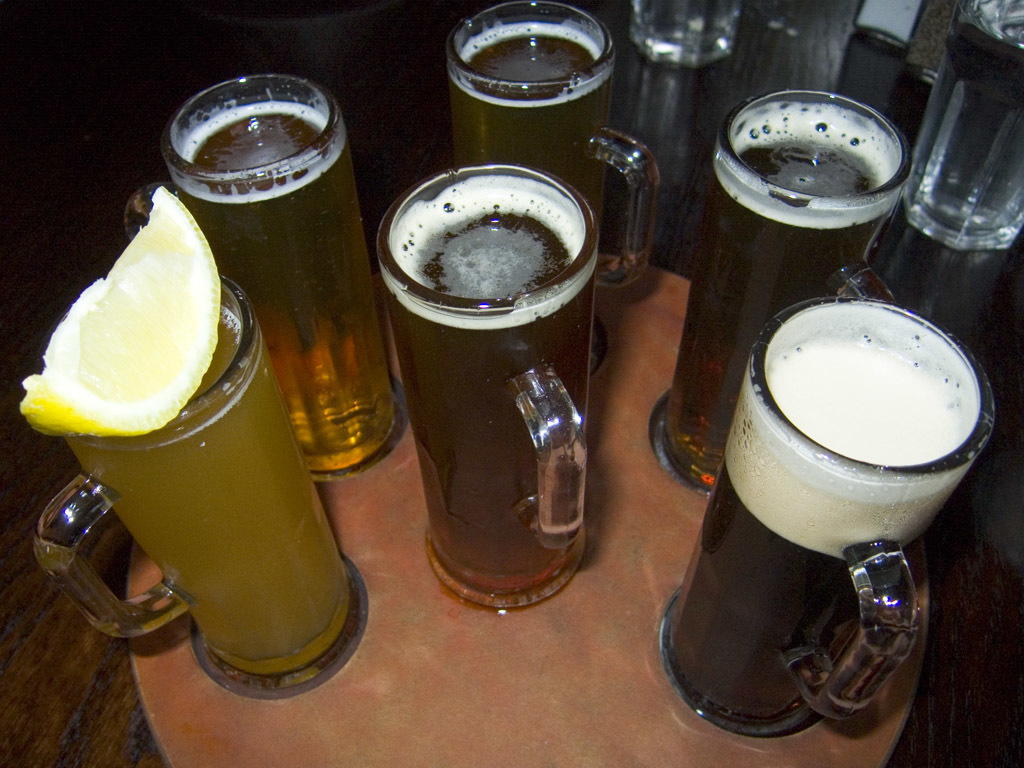Beer: (657, 306, 974, 736), (382, 175, 590, 610), (657, 100, 890, 485), (167, 96, 394, 485), (448, 14, 611, 252)
